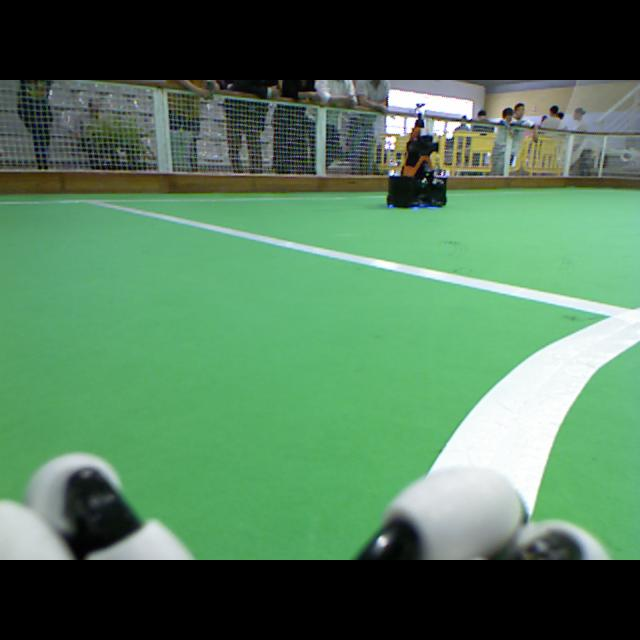robot: (385, 104, 449, 209)
